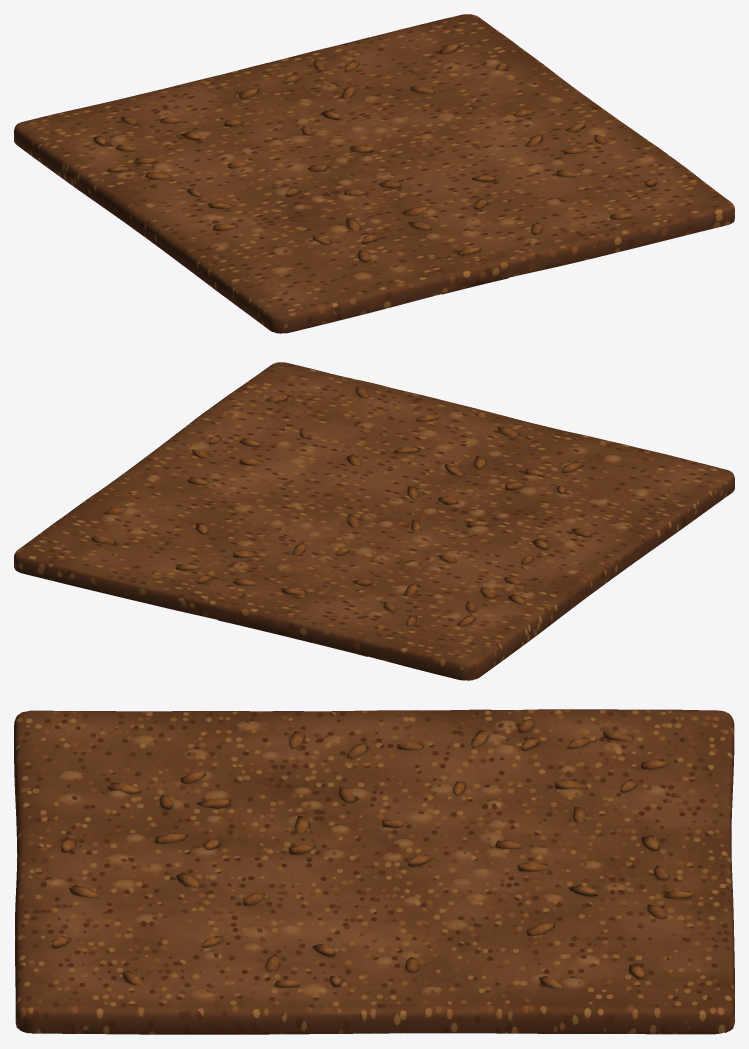
File: cracker--flaxseed-seed.glb
3 renders of one model, top to bottom at view 1: azimuth 30°, elevation 25°; view 2: azimuth 150°, elevation 25°; view 3: azimuth 270°, elevation 25°, orthographic. The views are drawn at different scales.
Parts seen in each view (by area): view 1: cracker_flaxseed-seed; view 2: cracker_flaxseed-seed; view 3: cracker_flaxseed-seed.
Part boxes in pixels (x1,y1,x2,y2): cracker_flaxseed-seed: (14,14,734,333); cracker_flaxseed-seed: (14,362,734,680); cracker_flaxseed-seed: (14,709,734,1034).
Bounding box in the file's own units: 1.01 × 0.0503 × 1.
Materials: 1 (1 with a texture image).
